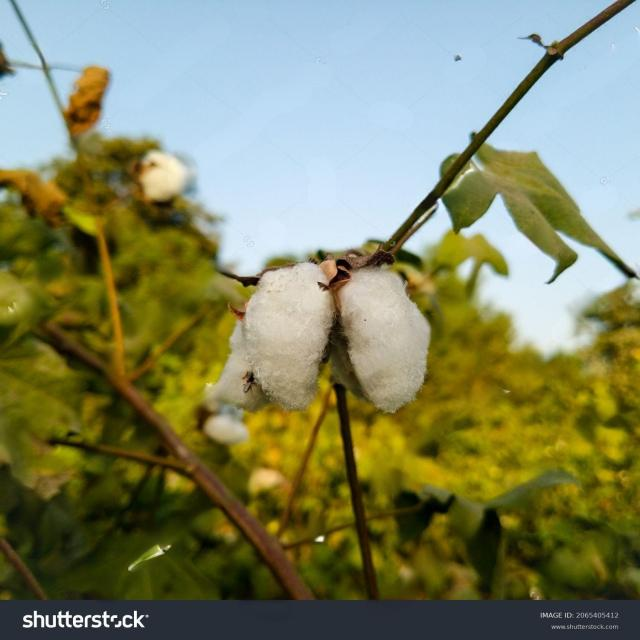Leaf: (195, 230, 445, 428)
